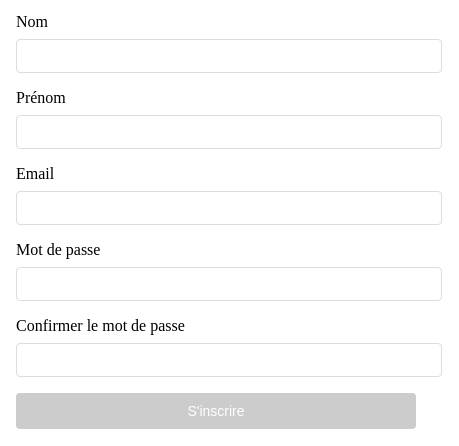
ForgeSignupForm › enables submit button when form is valid
This screenshot has width=459, height=446.
Remplir tous les champs avec des données valides
In the field labelled "Nom": [229, 56] box [16, 39, 442, 73], type "Doe"
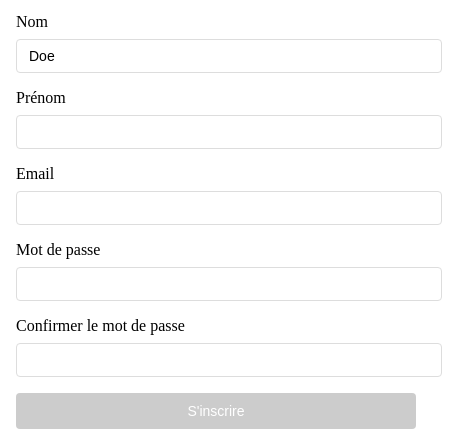
In the field labelled "Prénom": [229, 132] box [16, 115, 442, 149], type "John"
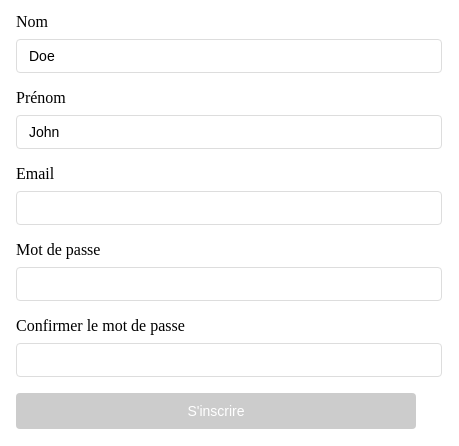
In the field labelled "Email": [229, 208] box [16, 191, 442, 225], type "john.doe@example.com"
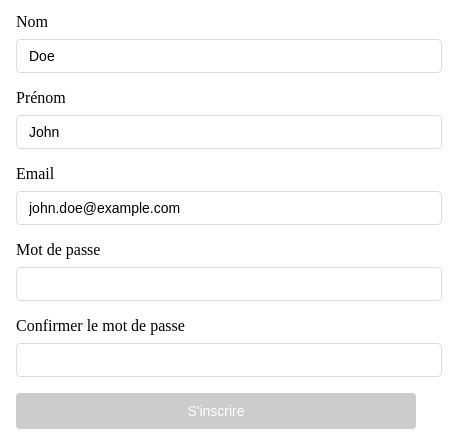
In the password field labelled "Mot de passe": [229, 284] box [16, 267, 442, 301], type "password123"
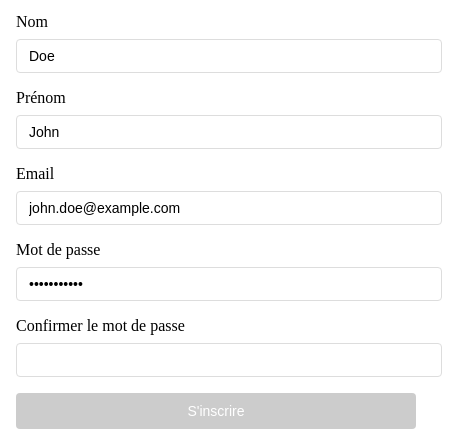
In the password field labelled "Confirmer le mot de passe": [229, 360] box [16, 343, 442, 377], type "password123"
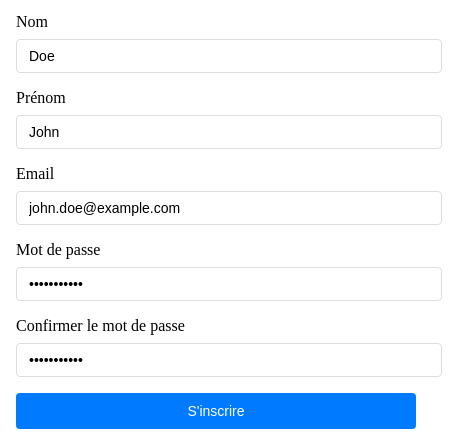
Check: the button "S'inscrire" is enabled, box [16, 393, 416, 429]
